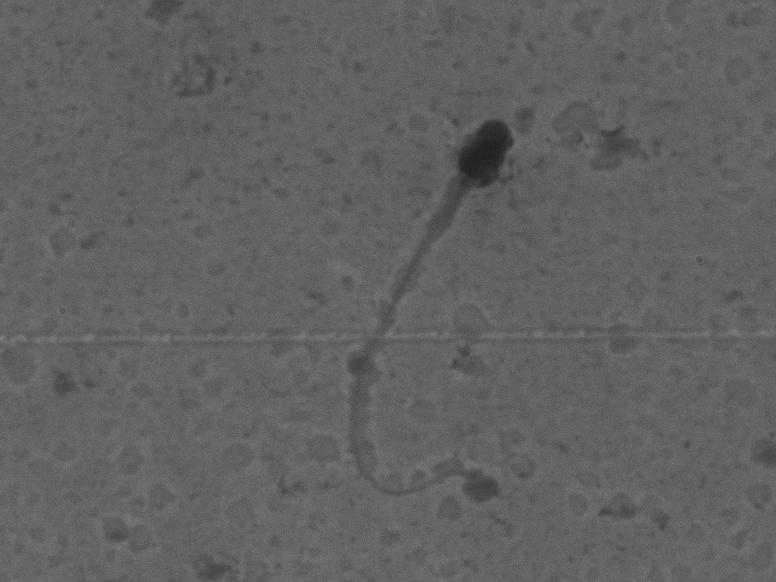Abnormal: (313, 93, 604, 519)
